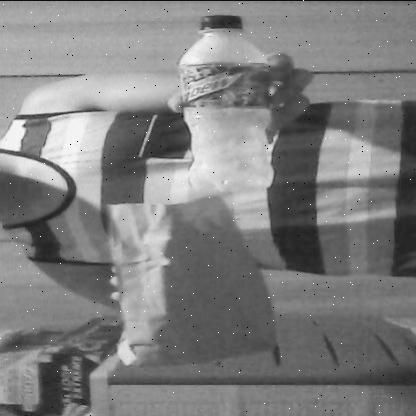Plastic Bottle: (164, 9, 280, 194)
